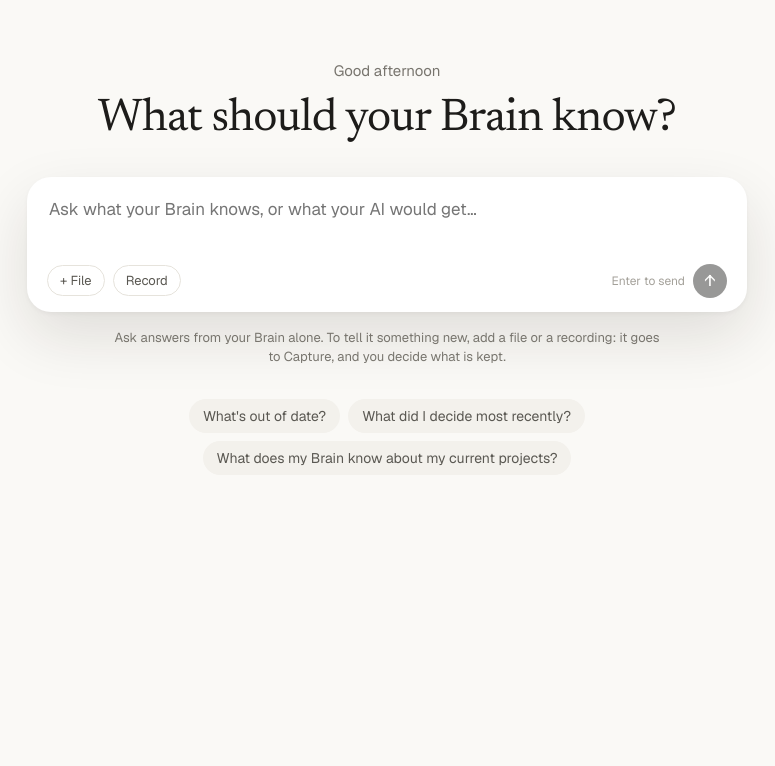
Test: Ask › says so when the AI answered without asking the Brain
Type "Anything?" into the text box named "Your question" at (387, 222), box left=47, top=195, right=727, bottom=250
Then press Enter
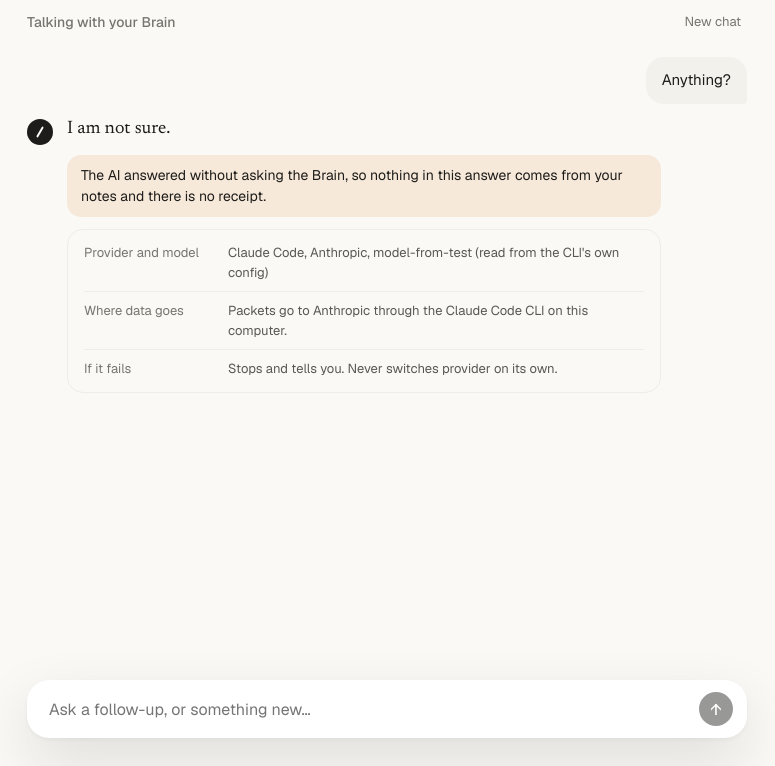
Expected: the text "answered without asking the Brain" is shown, left=81, top=166, right=623, bottom=205
